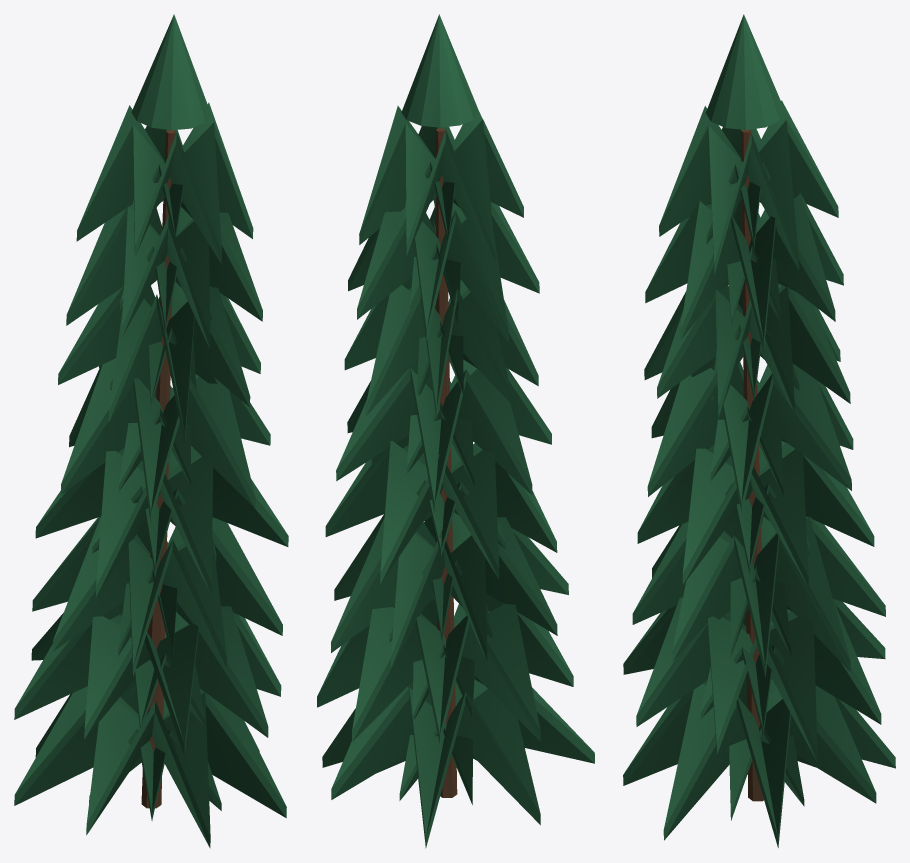
File: tree_pine_a_tall.glb
3 renders of one model, left to right at view 1: azimuth 30°, elevation 25°; view 2: azimuth 150°, elevation 25°; view 3: azimuth 270°, elevation 25°, orthographic. The views are drawn at different scales.
Visible parts, largest first — view 1: Canopy, Trunk; view 2: Canopy, Trunk; view 3: Canopy, Trunk.
Boxes of the visible parts, x1,y1,x2,y2 form: Canopy: (14, 14, 288, 848); Trunk: (141, 130, 175, 808); Canopy: (317, 14, 594, 848); Trunk: (435, 128, 457, 797); Canopy: (623, 14, 895, 847); Trunk: (741, 129, 763, 801).
Size of the model in its own units: 5.43 by 17.51 by 5.47.
Materials: 1 (1 with a texture image).
